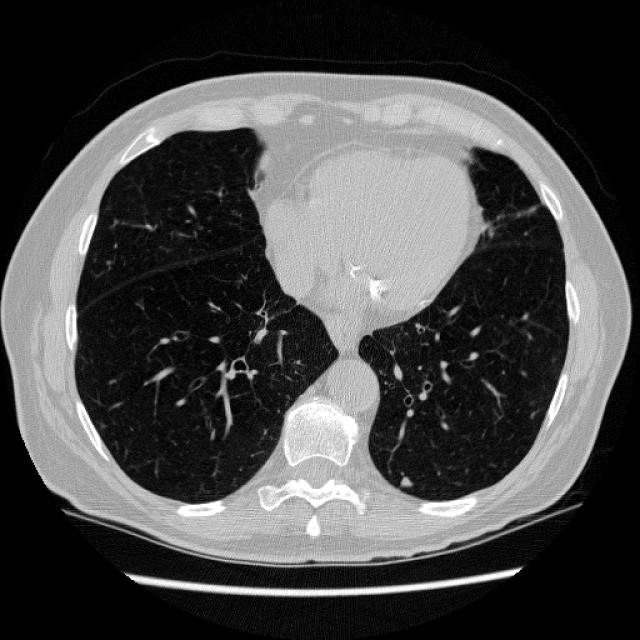nodule: (391, 467, 419, 495)
